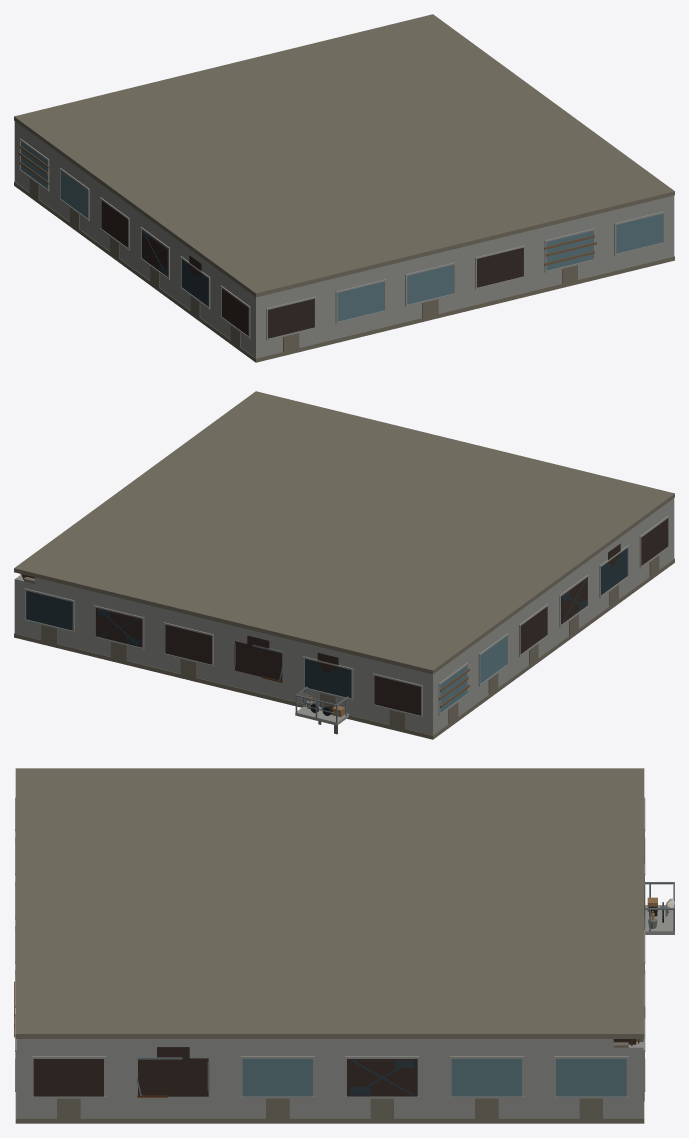
Rendered from tw_slab_24_floor_c.glb.
3 renders of one model, top to bottom at view 1: azimuth 30°, elevation 25°; view 2: azimuth 150°, elevation 25°; view 3: azimuth 270°, elevation 25°, orthographic. The views are drawn at different scales.
Parts seen in each view (by area): view 1: tw_slab_24_floor_c; view 2: tw_slab_24_floor_c; view 3: tw_slab_24_floor_c.
Part boxes in pixels (x1,y1,x2,y2): tw_slab_24_floor_c: (14,14,674,362); tw_slab_24_floor_c: (14,391,674,739); tw_slab_24_floor_c: (14,768,674,1123).
Bounding box in the file's own units: 24.17 × 4.78 × 25.3.
Materials: 3 (3 with a texture image).
